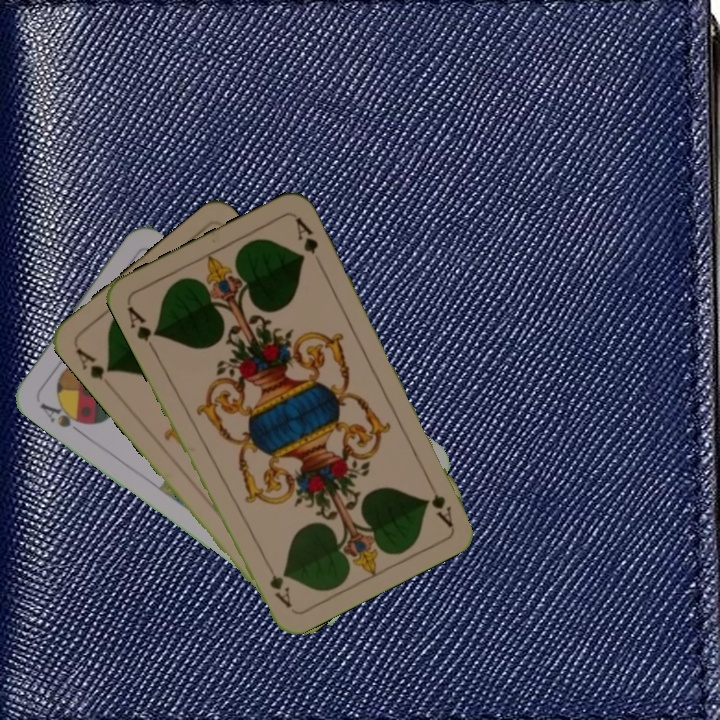GA: (123, 302, 162, 355), (422, 473, 456, 529), (71, 343, 115, 382)
SA: (36, 397, 89, 436)
